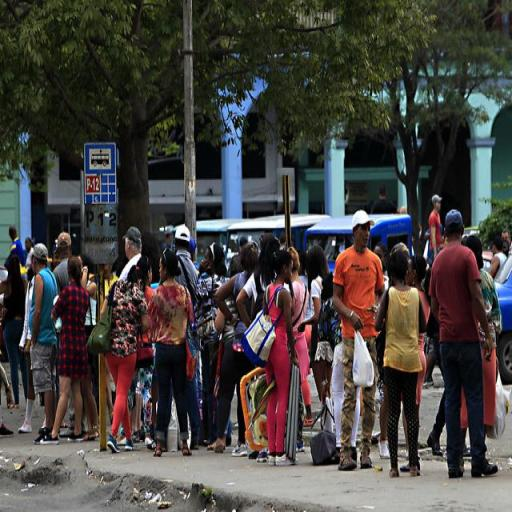person: (429, 207, 500, 479), (378, 242, 430, 482), (335, 206, 377, 475), (148, 249, 196, 458), (214, 251, 259, 460), (104, 263, 153, 453), (40, 254, 88, 445), (261, 251, 300, 472), (463, 235, 501, 458), (172, 224, 205, 441), (29, 244, 63, 443), (302, 244, 336, 431), (195, 247, 226, 451), (402, 256, 431, 474), (284, 247, 315, 431), (134, 258, 159, 447), (79, 254, 104, 441), (1, 258, 31, 410), (375, 241, 390, 459), (428, 196, 445, 261)
